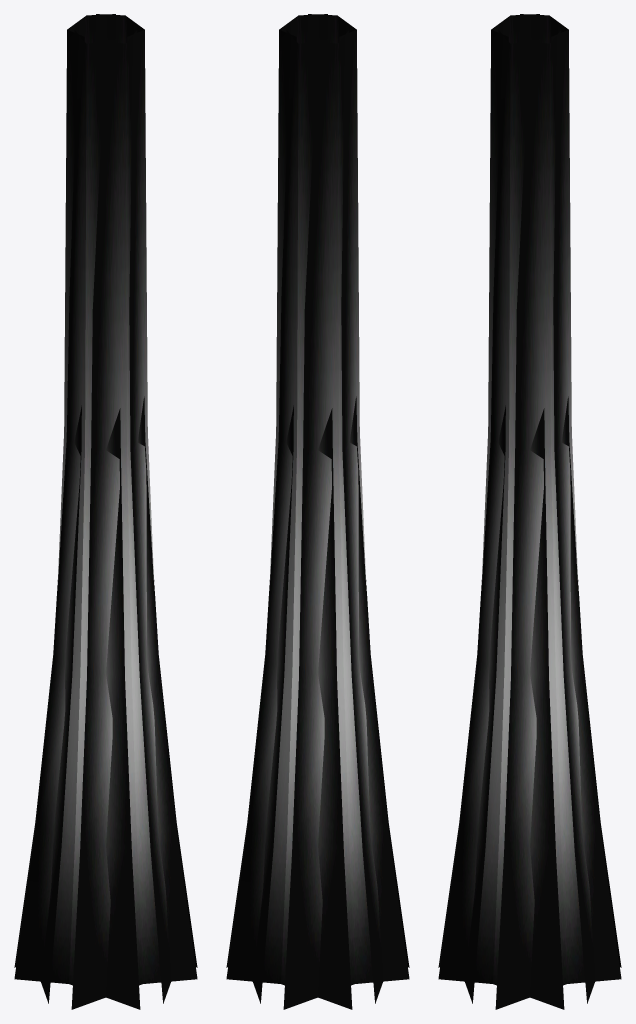
File: vfx_kurp_0158.dae
The picture shows the model from 3 angles, left to right: view 1: azimuth 30°, elevation 25°; view 2: azimuth 150°, elevation 25°; view 3: azimuth 270°, elevation 25°; orthographic projection.
Visible parts, largest first — view 1: vfx_kurp_0158; view 2: vfx_kurp_0158; view 3: vfx_kurp_0158.
Part boxes in pixels (box(x1,y1,x2,y2)): vfx_kurp_0158: box(14, 14, 197, 1009); vfx_kurp_0158: box(226, 14, 409, 1009); vfx_kurp_0158: box(438, 14, 621, 1009).
Bounding box in the file's own units: 3.6 × 3.84 × 21.93.
1 material, 1 textured.
